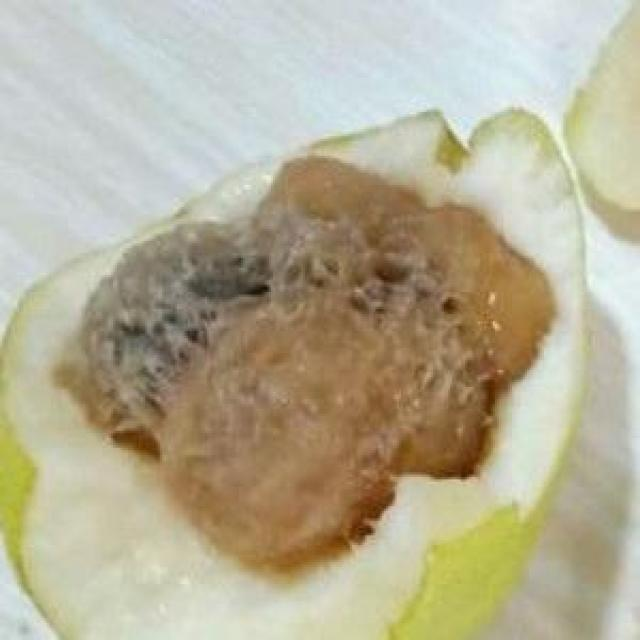organic: (0, 0, 640, 640)
